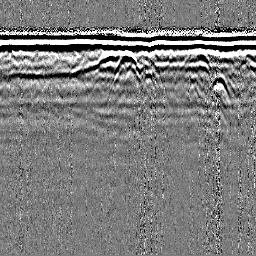cavity: (113, 49, 141, 78)
